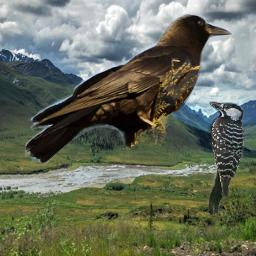Crow: (25, 9, 235, 170)
Woodpecker: (206, 99, 247, 216)
